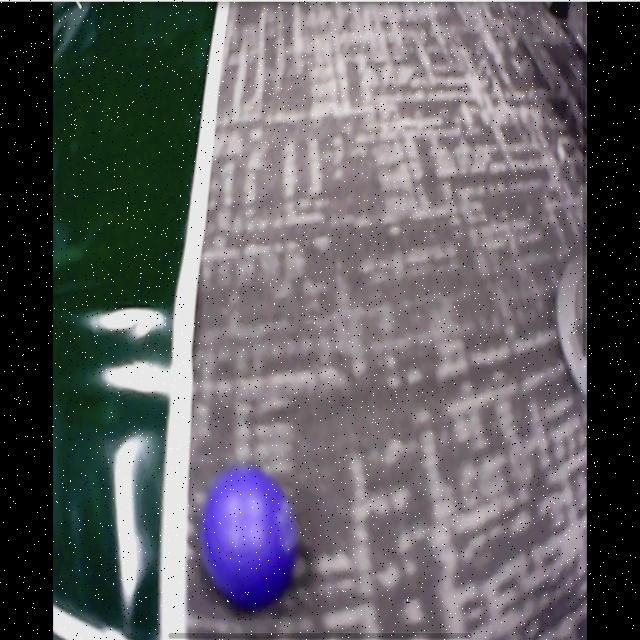ball: (200, 468, 300, 611)
